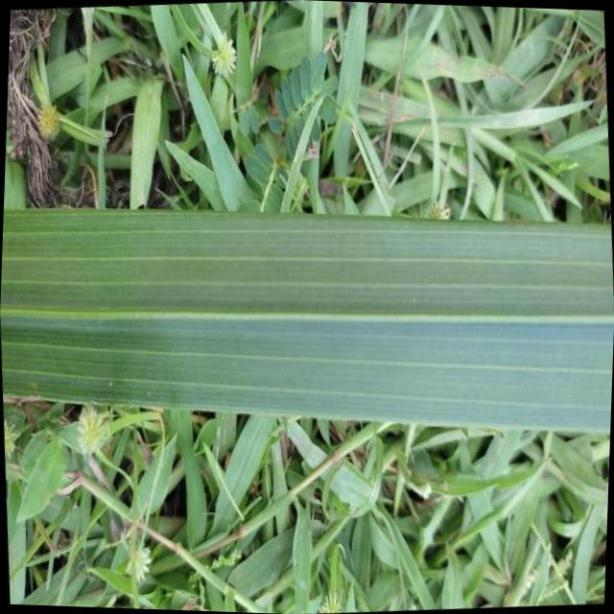Healthy: (6, 213, 614, 433)
